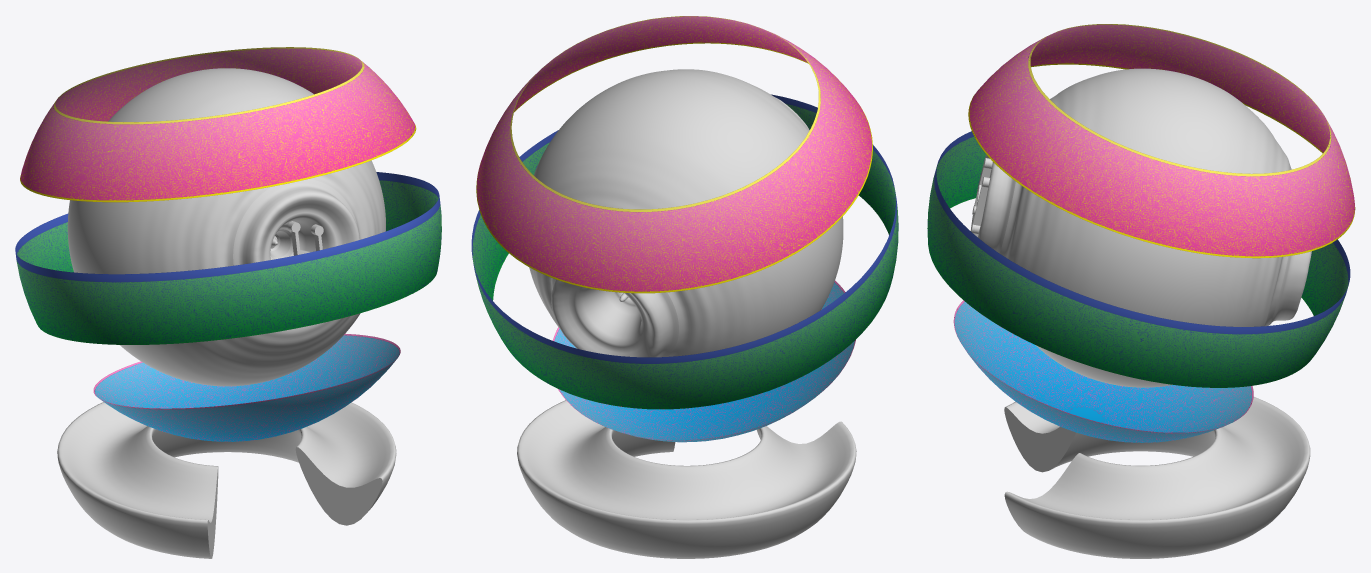
File: hifi_opacityM_albedoM.fbx
3 views of the same model, side by side, from view 1: azimuth 30°, elevation 25°; view 2: azimuth 150°, elevation 25°; view 3: azimuth 270°, elevation 25° (orthographic).
Visible parts, largest first — view 1: Icosphere.001; view 2: Icosphere.001; view 3: Icosphere.001.
Boxes of the visible parts, box(x1,y1,x2,y2) form: Icosphere.001: box(15, 47, 441, 558); Icosphere.001: box(471, 16, 898, 558); Icosphere.001: box(927, 24, 1355, 558).
Bounding box in the file's own units: 83.99 × 102 × 83.99.
Materials: 2 (1 with a texture image).
